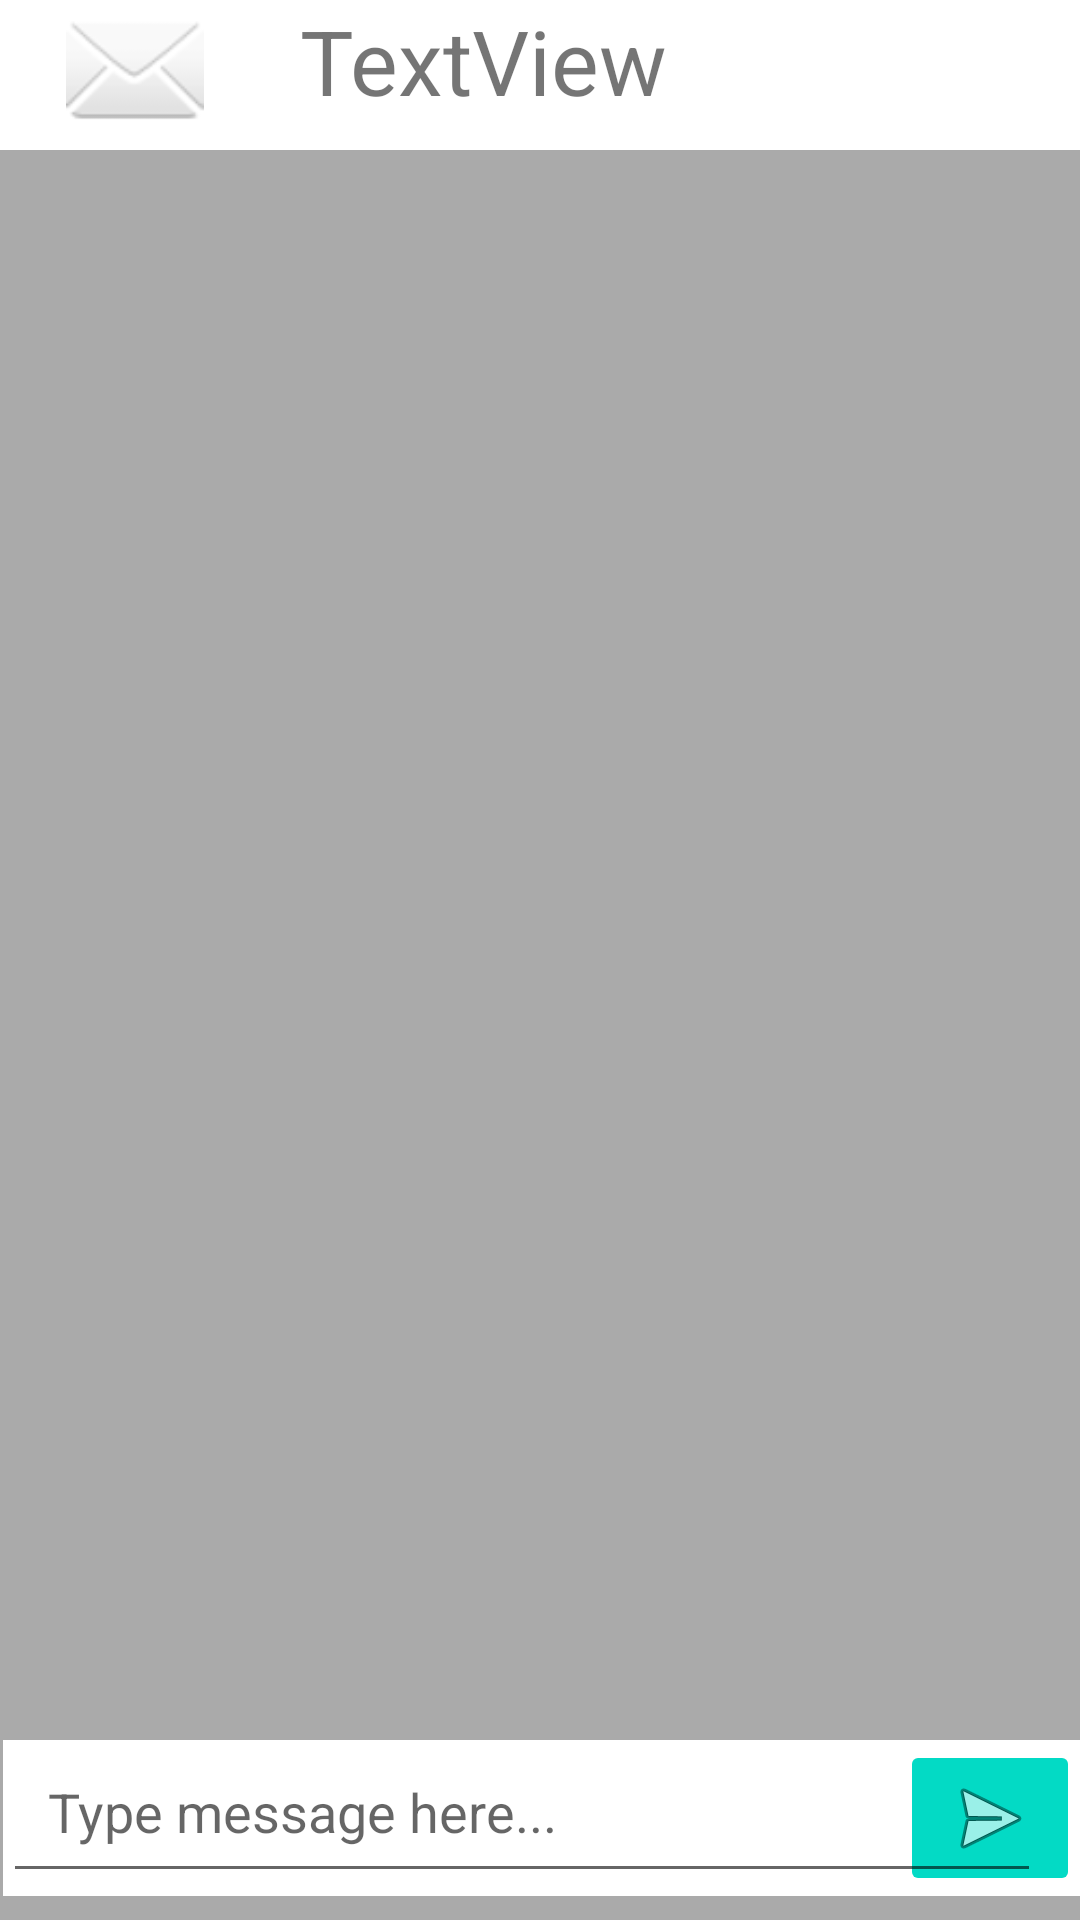

Icons on this 1080x1920 Android screen, each with the point to tap as point (x, y):
email: point (135, 71)
send: point (984, 1818)
